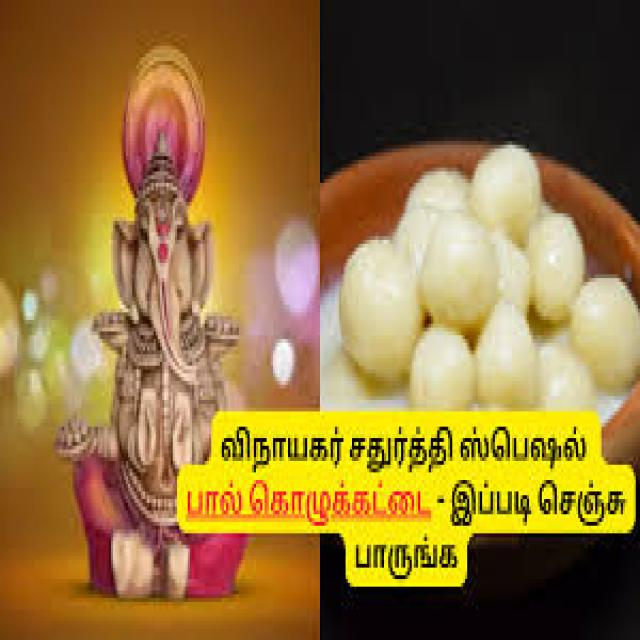paal kolukattai: (328, 124, 634, 404)
